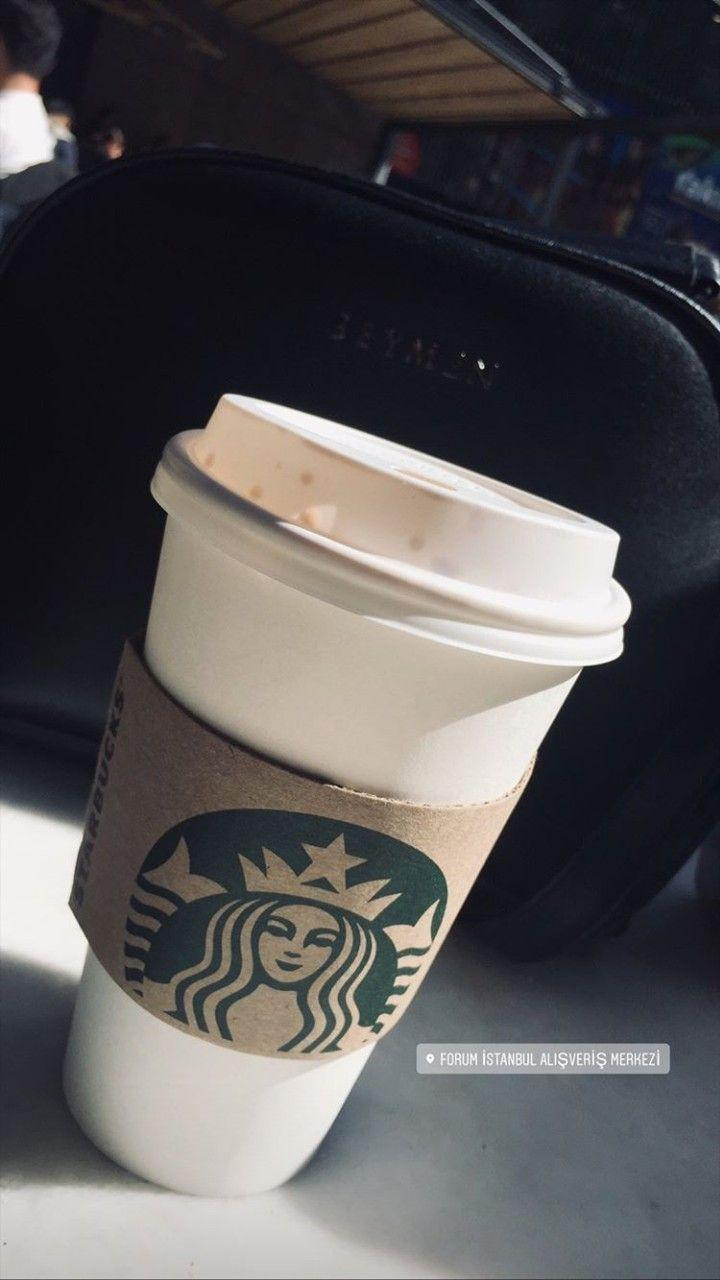cup-disposable: (54, 389, 633, 1199)
